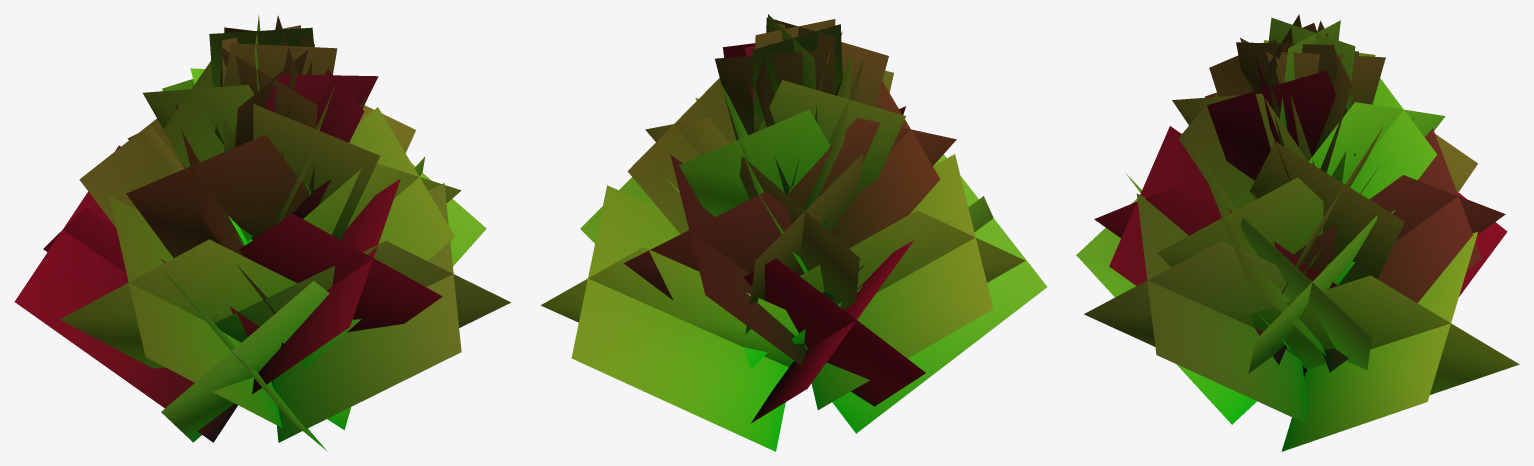
The model's file is Tree_2_14.fbx.
The picture shows the model from 3 angles, left to right: view 1: azimuth 30°, elevation 25°; view 2: azimuth 150°, elevation 25°; view 3: azimuth 270°, elevation 25°; orthographic projection. The views are drawn at different scales.
Visible parts, largest first — view 1: Tree_2_14; view 2: Tree_2_14; view 3: Tree_2_14.
Part boxes in pixels (x1,y1,x2,y2): Tree_2_14: [14, 15, 510, 451]; Tree_2_14: [541, 14, 1046, 451]; Tree_2_14: [1076, 14, 1519, 451].
Bounding box in the file's own units: 4199 × 4013 × 4133.
